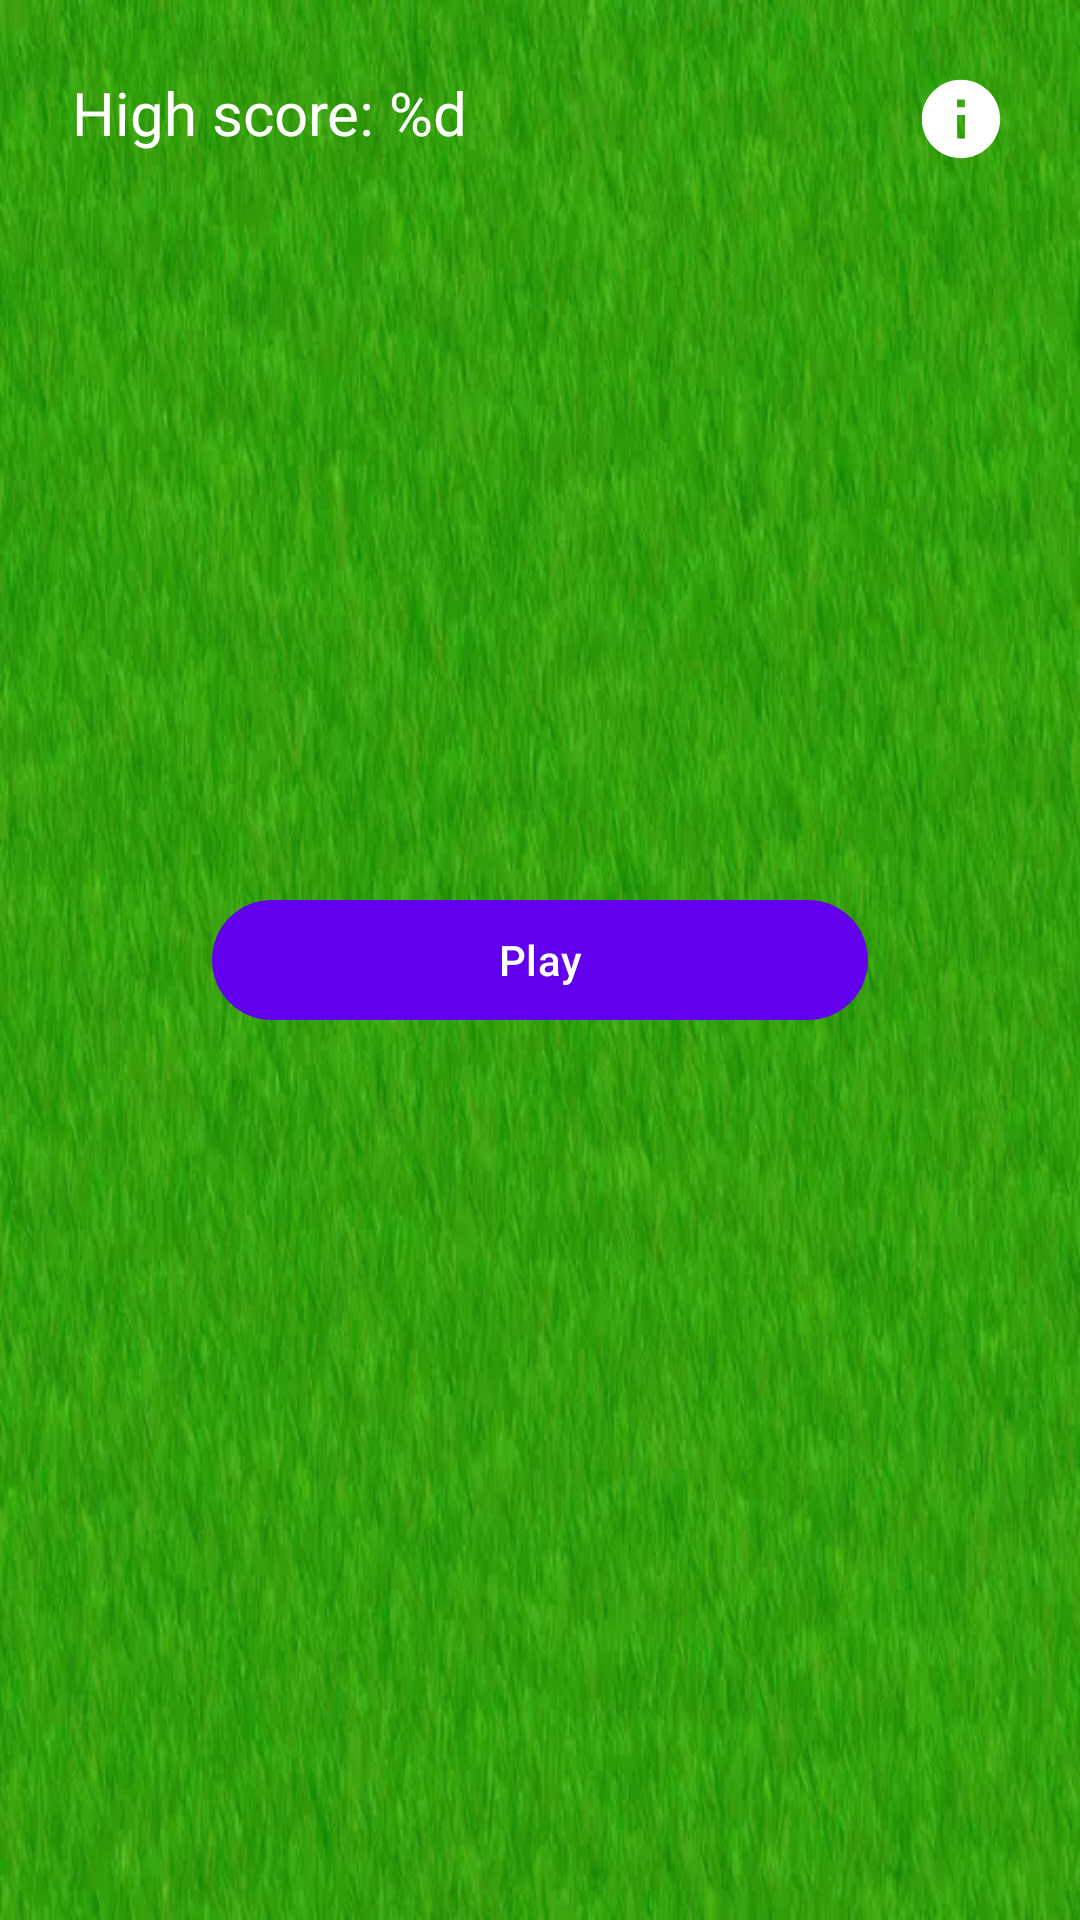

Icons on this 1080x1920 Android screen, each with the point to tap as (x,y):
info: (957,117)
